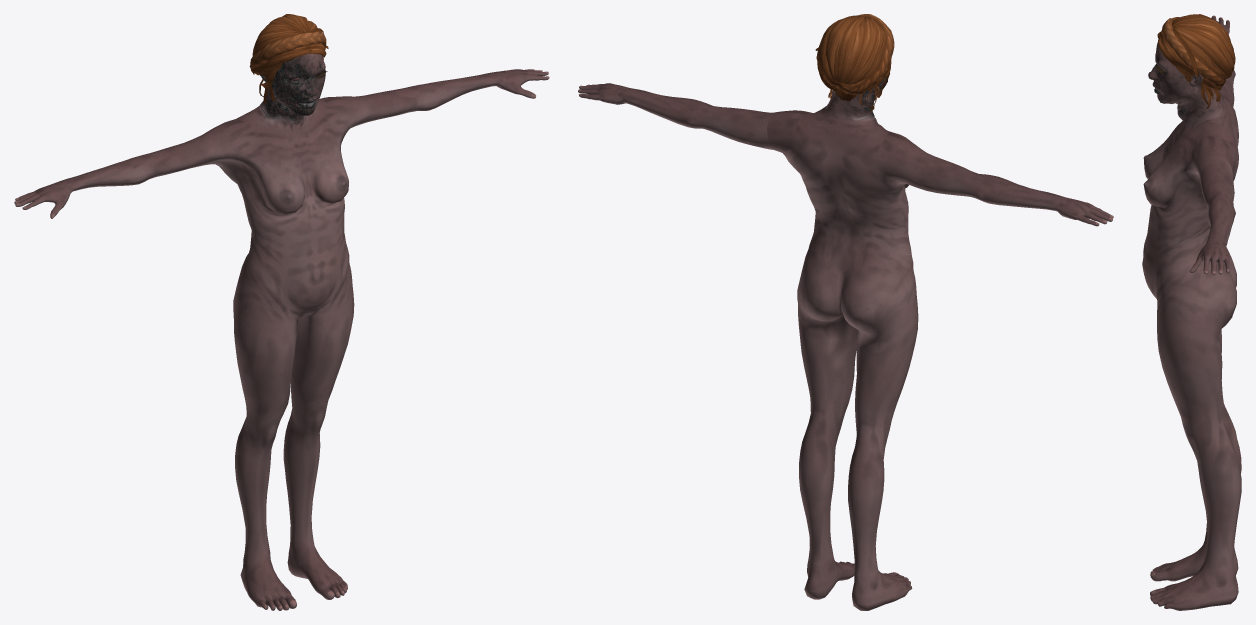
File: peluca2.obj
The picture shows the model from 3 angles, left to right: view 1: azimuth 30°, elevation 25°; view 2: azimuth 150°, elevation 25°; view 3: azimuth 270°, elevation 25°; orthographic projection.
Visible parts, largest first — view 1: Body, Hair; view 2: Body, Hair; view 3: Body, Hair.
Part boxes in pixels (x1,y1,x2,y2): Body: (14, 53, 549, 610); Hair: (249, 14, 328, 103); Body: (578, 75, 1113, 610); Hair: (815, 14, 894, 111); Body: (1142, 15, 1241, 610); Hair: (1157, 14, 1235, 108).
Size of the model in its own units: 174 by 178 by 28.12.
2 materials, 2 textured.
